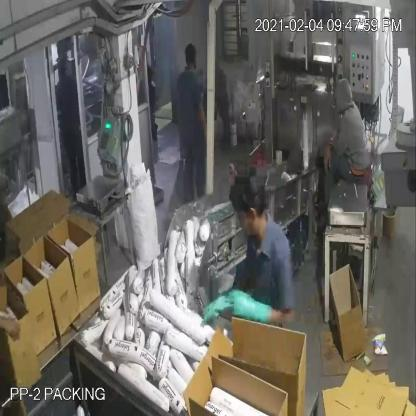glove: (226, 282, 282, 337), (203, 274, 242, 329)
no_glove: (314, 138, 338, 179), (196, 96, 214, 148)
